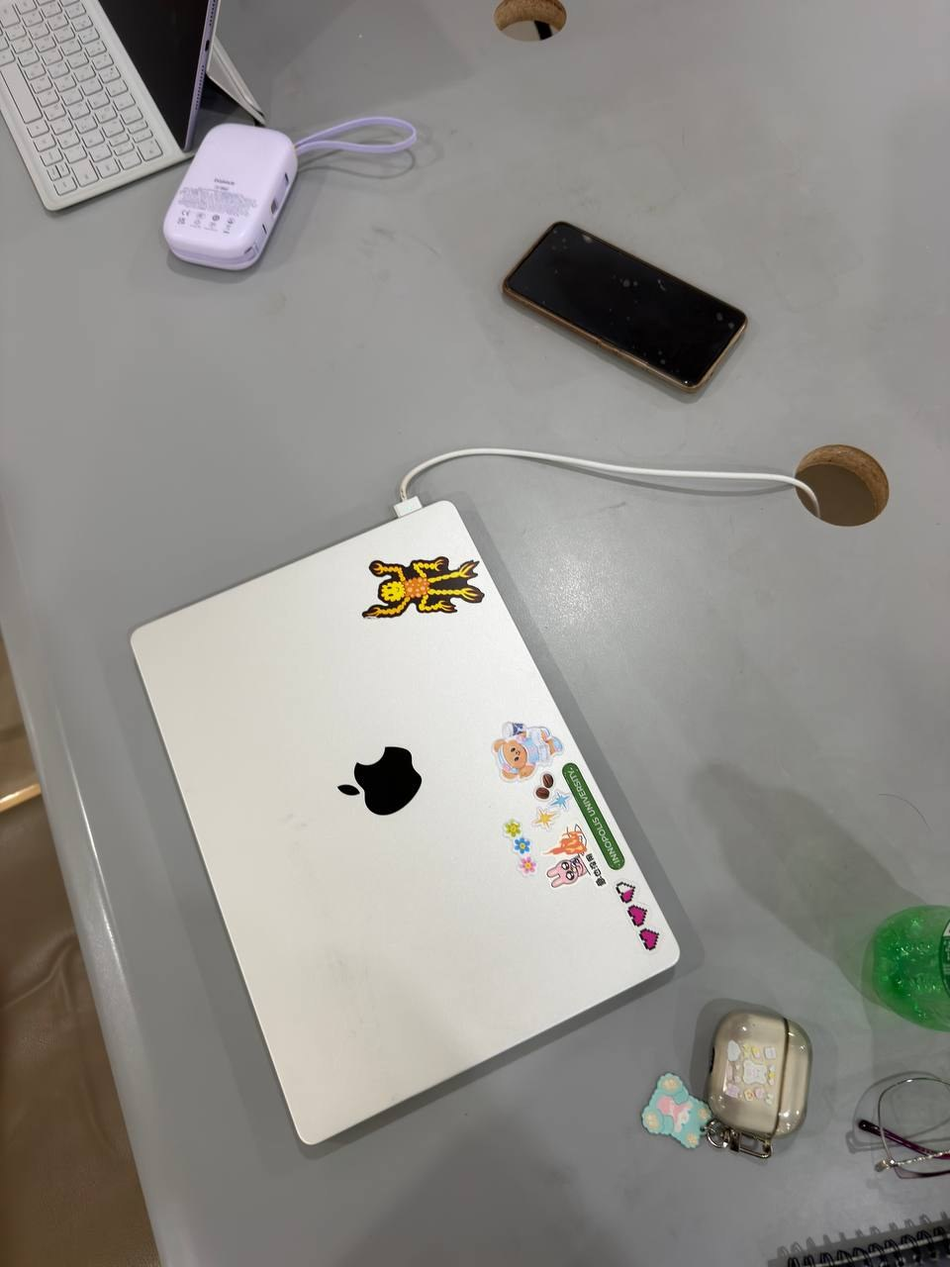cell phone: (501, 219, 748, 394)
laptop: (129, 497, 682, 1145)
